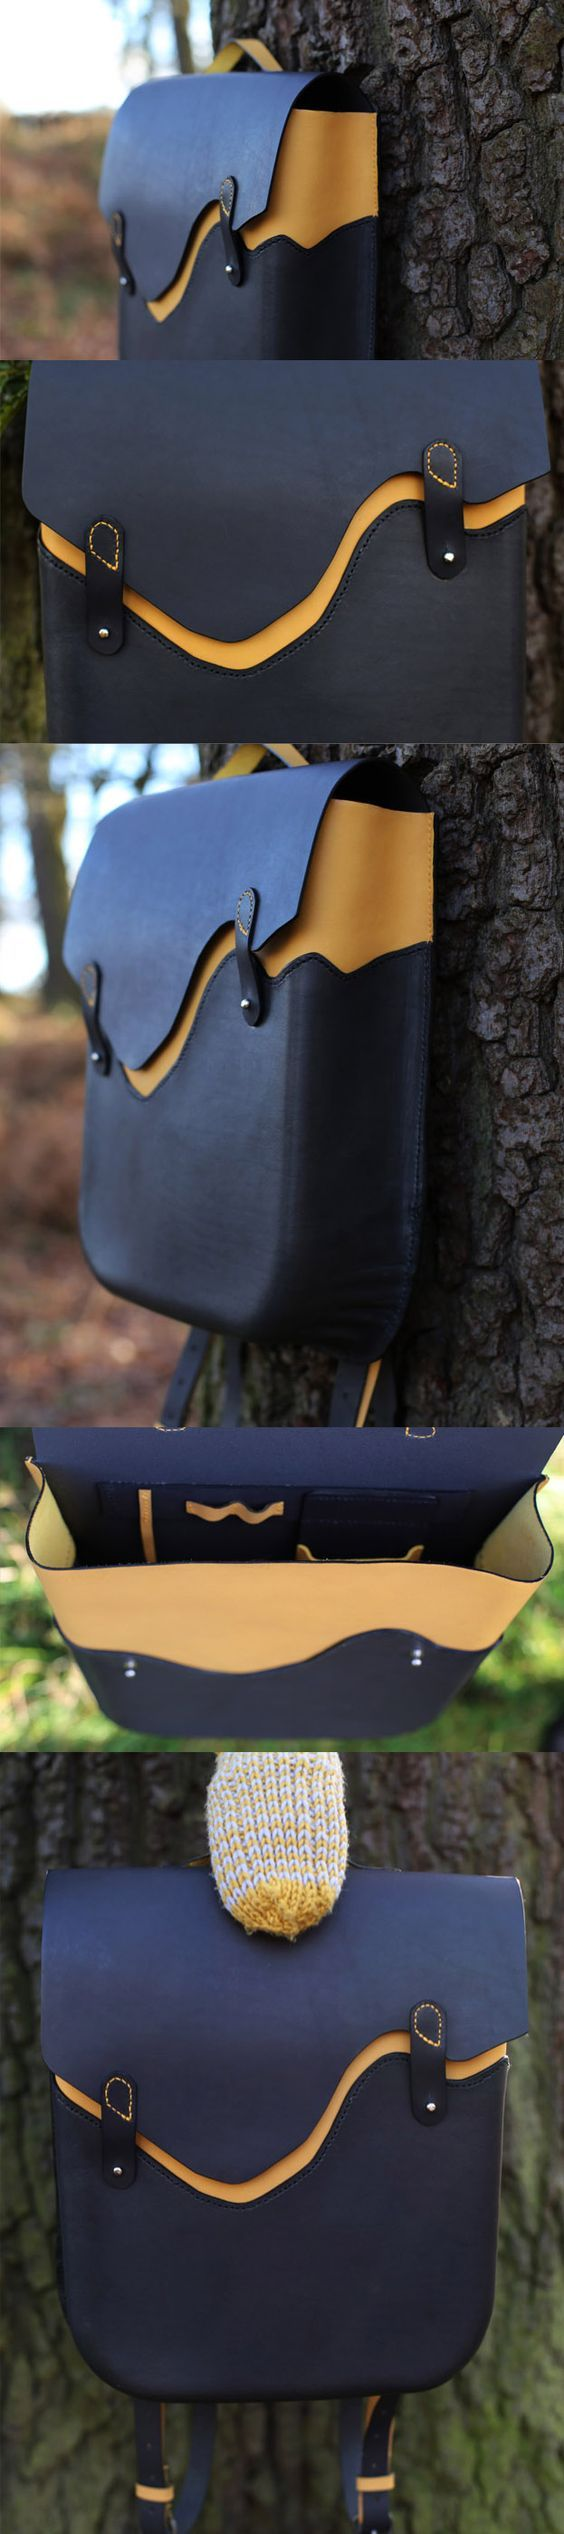cuero: (24, 71, 546, 2398)
